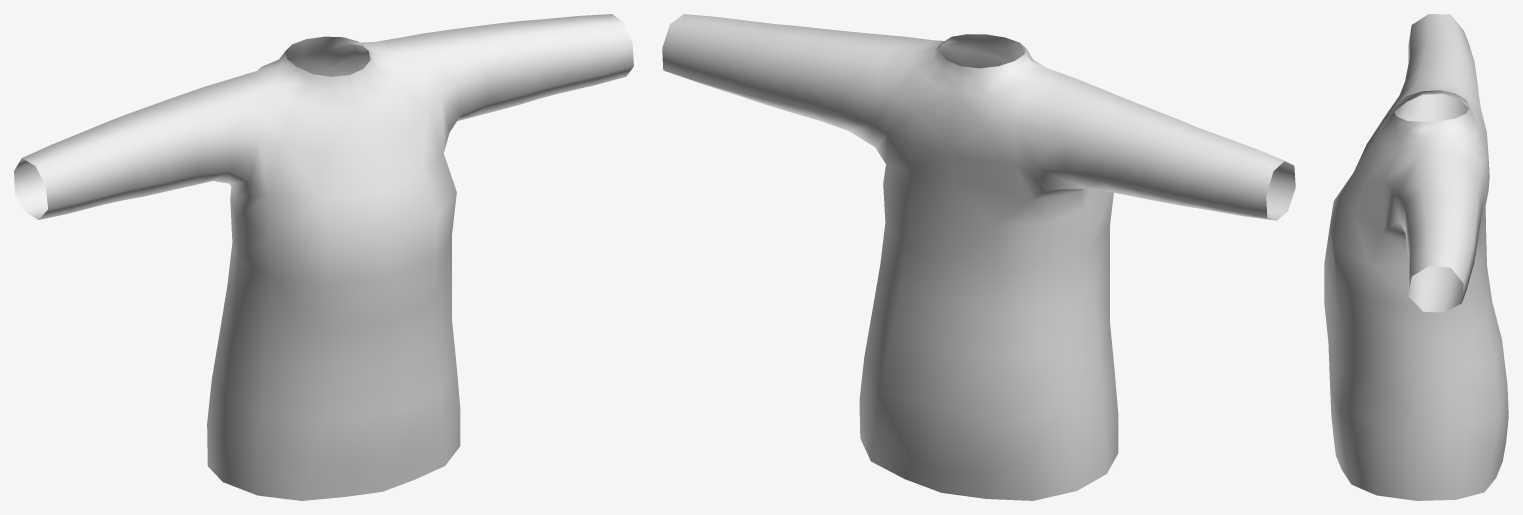
The model's file is Outerwear_White_011.glb.
3 views of the same model, side by side, from view 1: azimuth 30°, elevation 25°; view 2: azimuth 150°, elevation 25°; view 3: azimuth 270°, elevation 25° (orthographic). The views are drawn at different scales.
Visible parts, largest first — view 1: Outerwear_White_011; view 2: Outerwear_White_011; view 3: Outerwear_White_011.
Part boxes in pixels (bbox=[...]): Outerwear_White_011: bbox=[14, 14, 633, 500]; Outerwear_White_011: bbox=[662, 14, 1295, 500]; Outerwear_White_011: bbox=[1324, 14, 1508, 500].
Bounding box in the file's own units: 1.22 × 0.8008 × 0.3763.
Materials: 1 (1 with a texture image).
